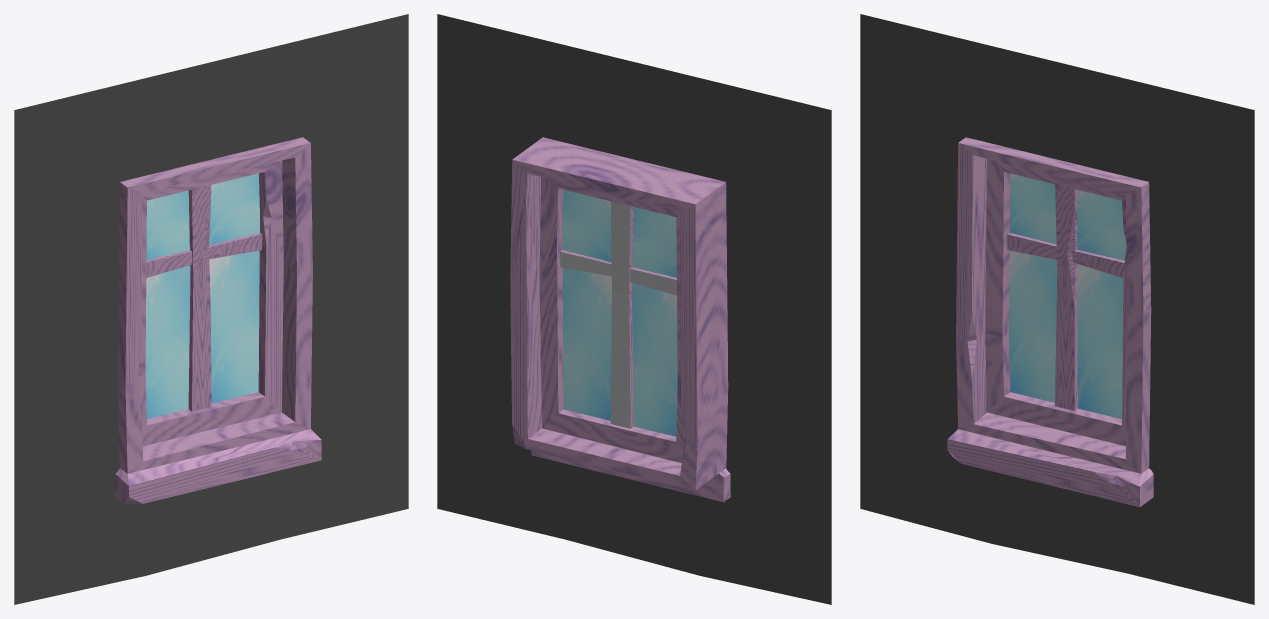
The model's file is House01_Wall_Window_01.fbx.
The picture shows the model from 3 angles, left to right: view 1: azimuth 30°, elevation 25°; view 2: azimuth 150°, elevation 25°; view 3: azimuth 330°, elevation 25°; orthographic projection.
Visible parts, largest first — view 1: SM_Bld_House_ExteriorWall_GroundFloor_Window_01; view 2: SM_Bld_House_ExteriorWall_GroundFloor_Window_01; view 3: SM_Bld_House_ExteriorWall_GroundFloor_Window_01.
Part boxes in pixels (x1,y1,x2,y2): SM_Bld_House_ExteriorWall_GroundFloor_Window_01: (14, 14, 408, 604); SM_Bld_House_ExteriorWall_GroundFloor_Window_01: (437, 14, 831, 604); SM_Bld_House_ExteriorWall_GroundFloor_Window_01: (860, 14, 1254, 604).
Bounding box in the file's own units: 250 × 302 × 48.8.
